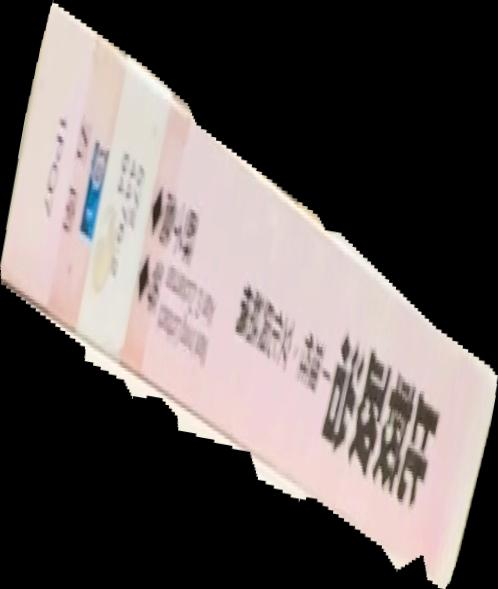flat: (1, 1, 498, 589)
